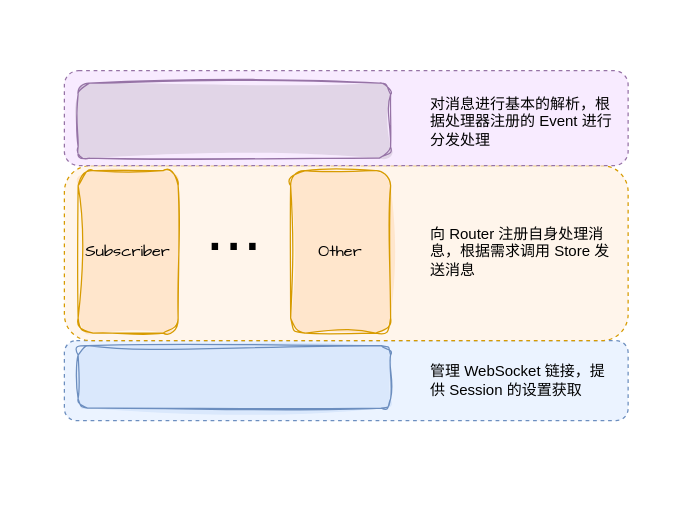
This 693x505 diagram has some shape labels left out. The centre of each missing label's shape, as x and y in pixels:
Message Router: (x=234, y=120)
WebSocket Store: (x=234, y=376)
